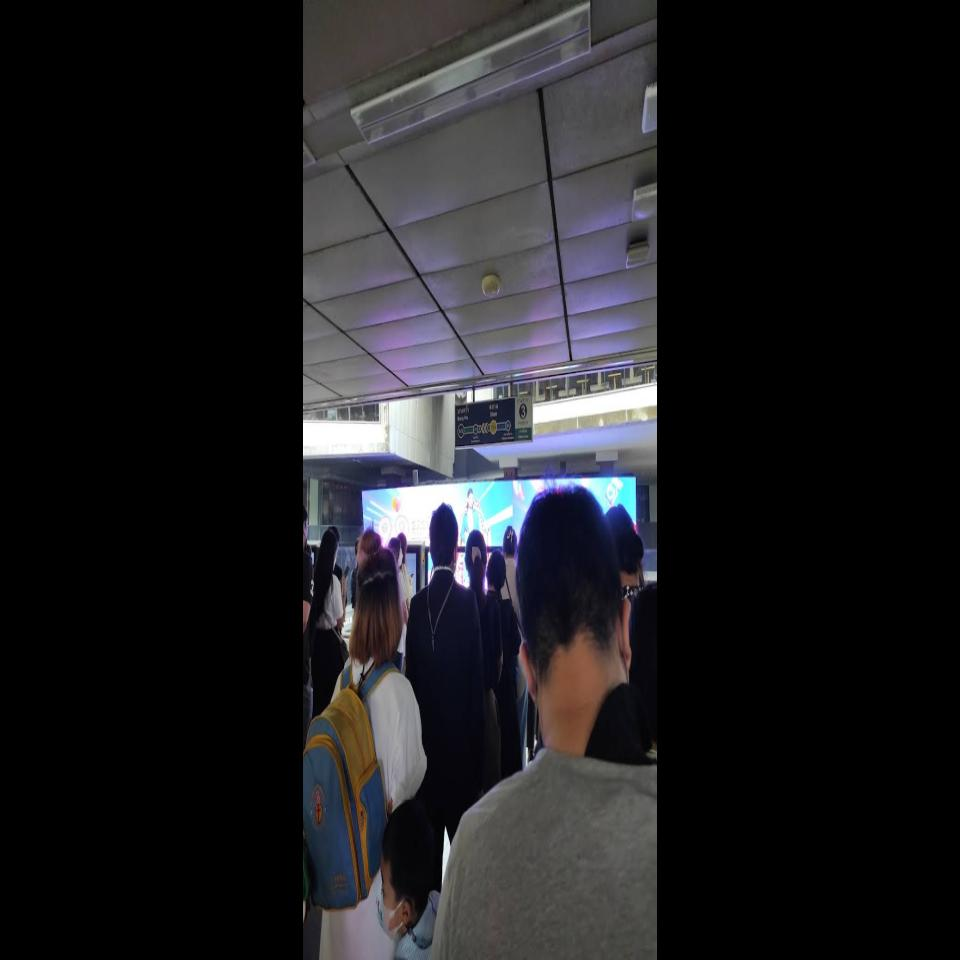signage: (473, 404, 511, 434)
